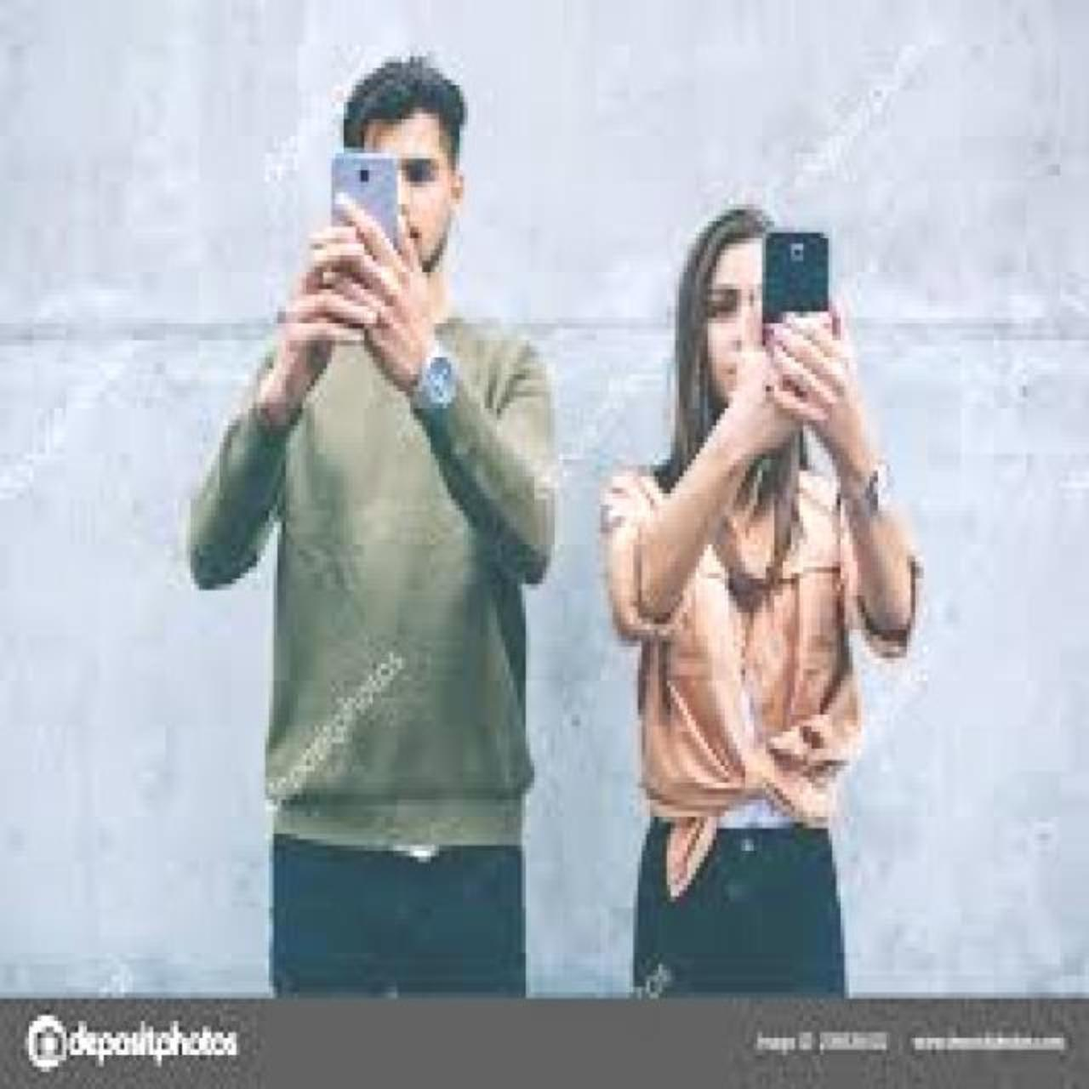phone: (763, 229, 830, 375), (332, 151, 398, 282)
